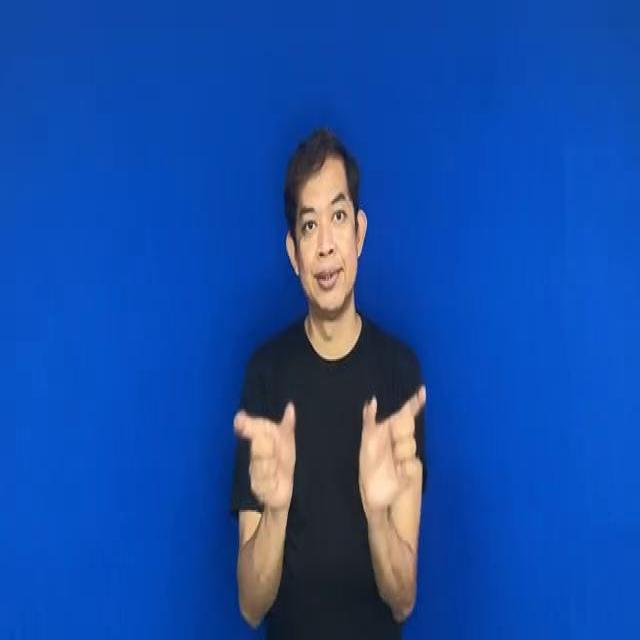crab: (219, 378, 439, 516)
